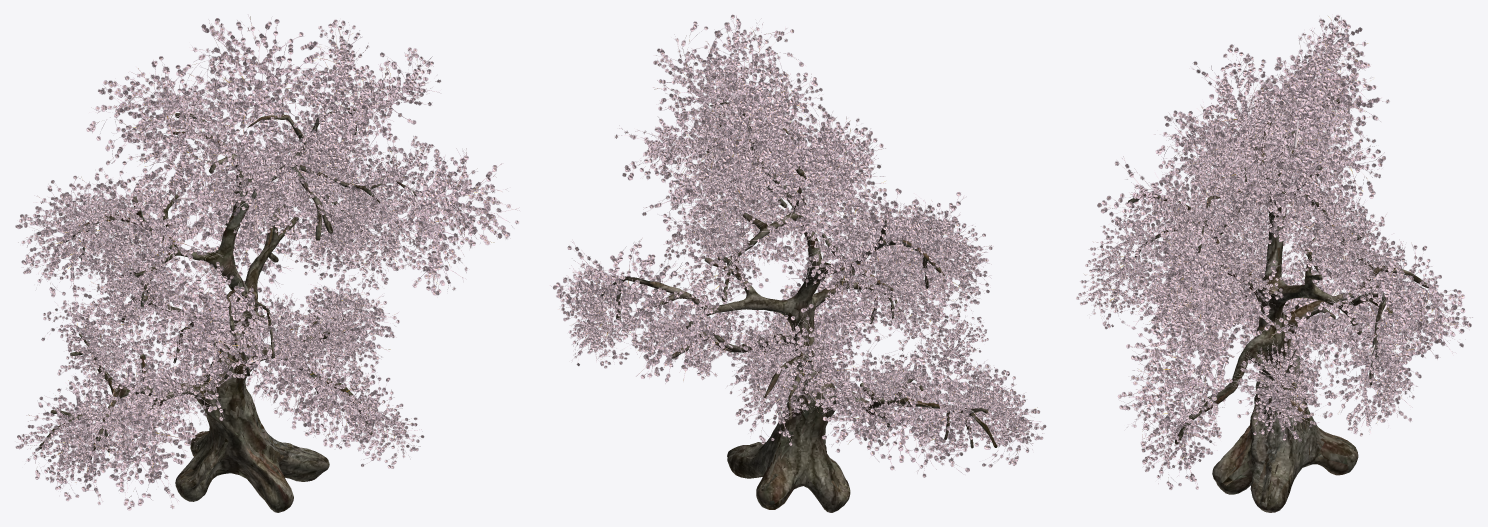
The model's file is cherry_blossom.glb.
The picture shows the model from 3 angles, left to right: view 1: azimuth 30°, elevation 25°; view 2: azimuth 150°, elevation 25°; view 3: azimuth 270°, elevation 25°; orthographic projection. The views are drawn at different scales.
Parts seen in each view (by area): view 1: BRANCH001, Tree; view 2: BRANCH001, Tree; view 3: BRANCH001, Tree.
Part boxes in pixels (x1,y1,x2,y2): BRANCH001: [15, 14, 519, 510]; Tree: [39, 107, 416, 512]; BRANCH001: [549, 14, 1046, 477]; Tree: [593, 102, 997, 512]; BRANCH001: [1076, 14, 1472, 489]; Tree: [1128, 98, 1429, 512].
Bounding box in the file's own units: 8.2 × 8.02 × 6.11.
Materials: 2 (2 with a texture image).
